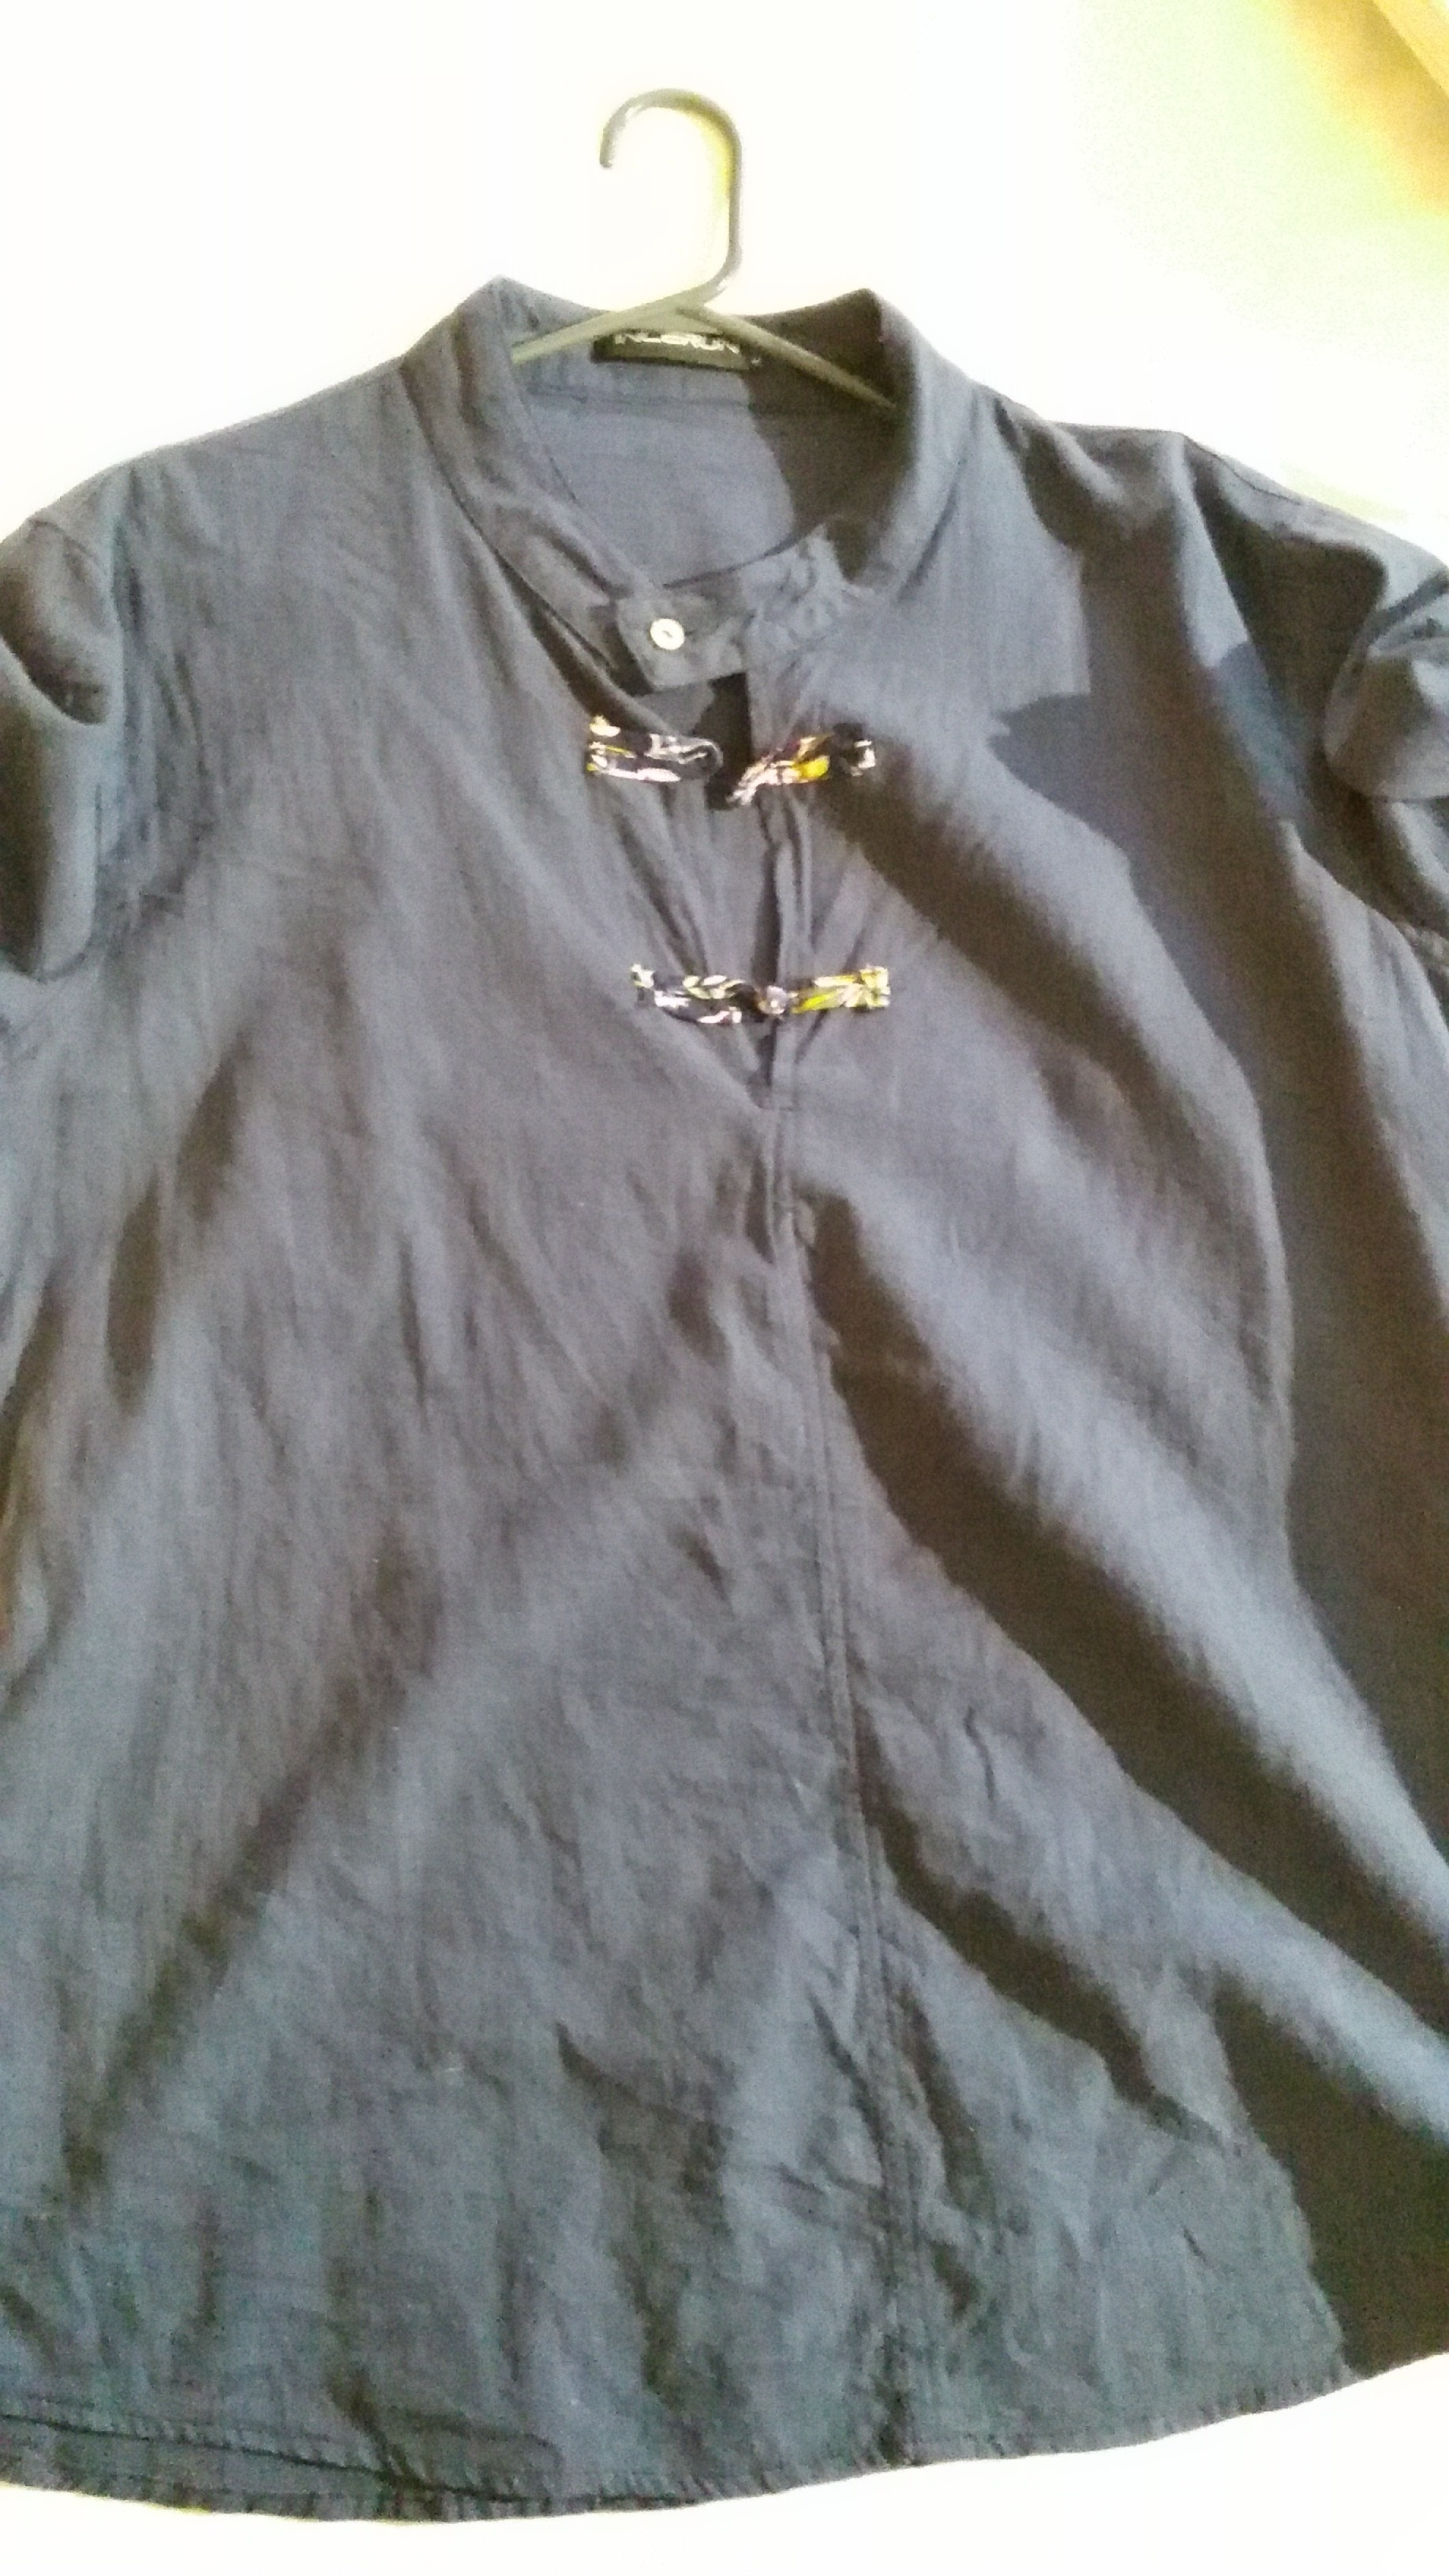shirts: (21, 278, 1449, 2512)
